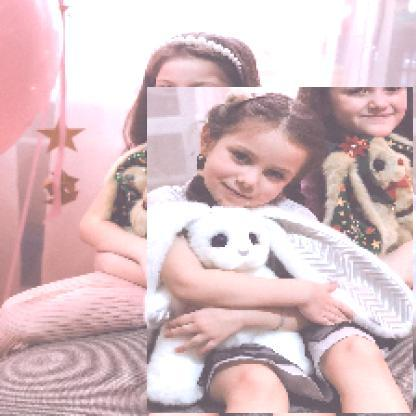child: (2, 30, 266, 363), (148, 88, 415, 415)
